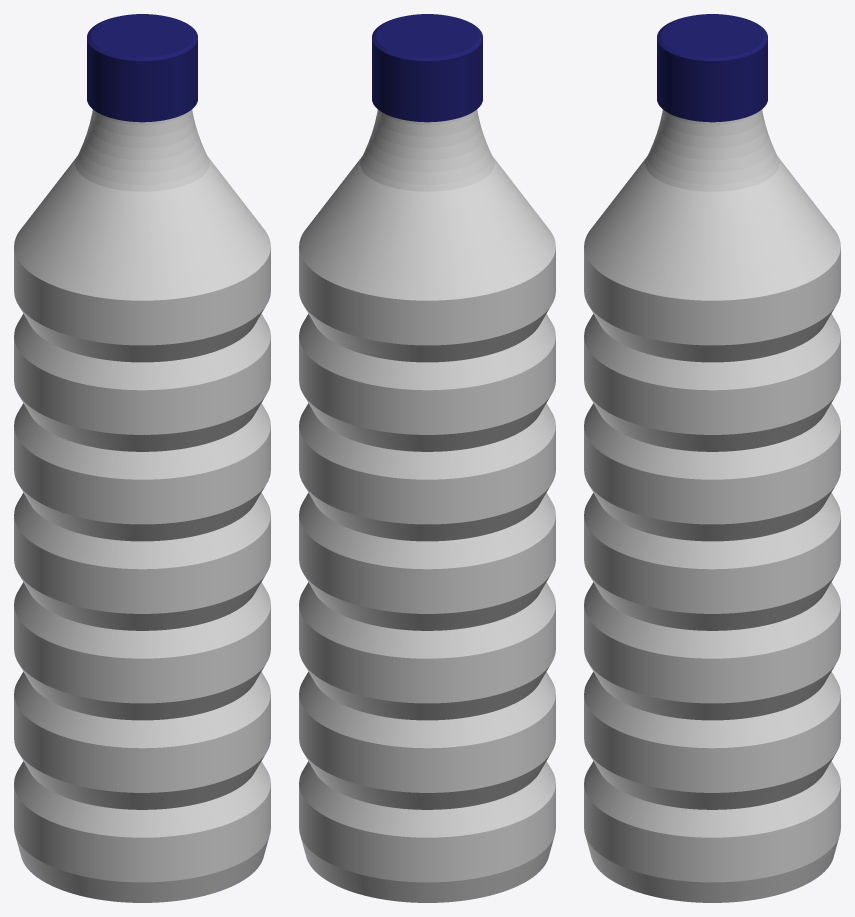
File: water_bottle.dae
3 renders of one model, left to right at view 1: azimuth 30°, elevation 25°; view 2: azimuth 150°, elevation 25°; view 3: azimuth 270°, elevation 25°, orthographic.
Visible parts, largest first — view 1: Cylinder, Cone, Cylinder.001, Cylinder.002; view 2: Cylinder, Cone, Cylinder.001, Cylinder.002; view 3: Cylinder, Cone, Cylinder.001, Cylinder.002.
Part boxes in pixels (left/top/right/bottom): Cylinder: left=14, top=248, right=270, bottom=902; Cone: left=14, top=157, right=270, bottom=300; Cylinder.001: left=87, top=14, right=197, bottom=122; Cylinder.002: left=75, top=109, right=209, bottom=191; Cylinder: left=299, top=248, right=555, bottom=902; Cone: left=299, top=157, right=555, bottom=300; Cylinder.001: left=372, top=14, right=482, bottom=122; Cylinder.002: left=360, top=109, right=494, bottom=191; Cylinder: left=584, top=248, right=840, bottom=902; Cone: left=584, top=157, right=840, bottom=300; Cylinder.001: left=657, top=14, right=767, bottom=122; Cylinder.002: left=645, top=109, right=779, bottom=191.
Bounding box in the file's own units: 2 × 2 × 7.01.
